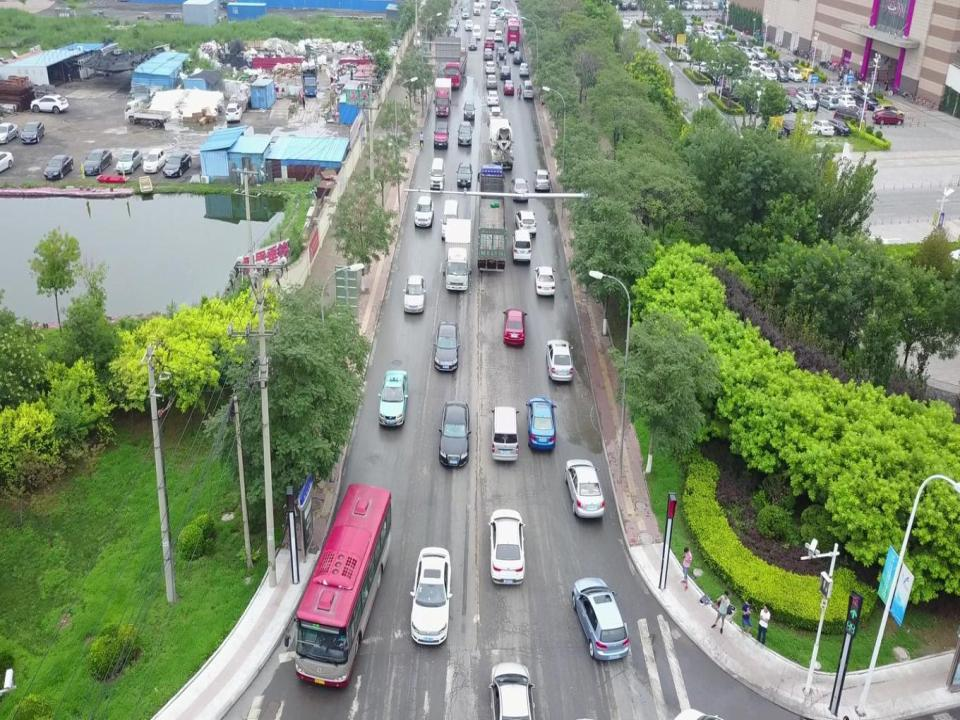bus: (284, 483, 392, 687), (507, 18, 520, 45)
car: (572, 576, 629, 662), (410, 546, 453, 646), (489, 509, 526, 586), (489, 662, 534, 720), (564, 459, 606, 519), (437, 400, 470, 468), (378, 370, 408, 427), (527, 395, 557, 450), (433, 320, 460, 373), (546, 339, 573, 382), (402, 275, 426, 314), (503, 308, 527, 346), (30, 93, 70, 114), (162, 150, 192, 178), (44, 153, 73, 181), (82, 148, 111, 176), (115, 148, 143, 174), (534, 266, 556, 296), (141, 147, 165, 174), (414, 196, 434, 228), (514, 208, 536, 236), (873, 108, 904, 126), (21, 121, 45, 144), (853, 88, 879, 109), (510, 177, 530, 201), (875, 104, 905, 120), (733, 74, 763, 90), (810, 118, 834, 137), (0, 122, 19, 145), (433, 120, 449, 147), (759, 120, 785, 136), (457, 161, 473, 186), (779, 118, 800, 137), (534, 168, 551, 191), (457, 120, 472, 146), (827, 118, 851, 134), (798, 91, 818, 110), (798, 118, 816, 138), (225, 102, 243, 122), (819, 94, 840, 110), (785, 94, 804, 111), (758, 64, 777, 81), (0, 151, 13, 174), (837, 94, 856, 109), (793, 85, 814, 98), (748, 65, 764, 82), (824, 85, 844, 98), (787, 66, 803, 82), (799, 66, 815, 82), (773, 66, 789, 82), (462, 102, 476, 120), (811, 85, 829, 99), (488, 105, 502, 122), (691, 61, 711, 72), (487, 89, 499, 106), (502, 79, 514, 95), (780, 86, 799, 96), (499, 10, 518, 20), (491, 6, 510, 16), (658, 30, 673, 42), (486, 74, 498, 88), (837, 85, 855, 94), (499, 66, 511, 79), (519, 62, 529, 76), (512, 50, 522, 64), (468, 38, 479, 50), (485, 61, 495, 74), (484, 36, 494, 49), (496, 47, 507, 58), (507, 41, 518, 52), (483, 47, 493, 59), (464, 19, 474, 31), (664, 0, 676, 10), (448, 18, 458, 30), (488, 13, 498, 24), (680, 0, 692, 9), (446, 28, 456, 38), (627, 1, 638, 10), (494, 29, 502, 41), (487, 21, 497, 30), (691, 0, 701, 9), (710, 1, 720, 10), (719, 1, 729, 10), (461, 7, 469, 18), (489, 0, 499, 8), (701, 1, 709, 10), (460, 0, 468, 9), (620, 1, 628, 9), (479, 0, 486, 8)
truck: (477, 163, 509, 273), (442, 217, 472, 291), (122, 99, 172, 128), (488, 118, 514, 171), (444, 46, 467, 89), (432, 77, 452, 118), (301, 60, 318, 96)
van: (488, 406, 521, 463), (440, 200, 459, 240), (511, 228, 532, 262), (429, 157, 446, 191), (522, 80, 534, 100), (618, 19, 631, 32), (472, 24, 482, 40), (473, 1, 481, 15)
